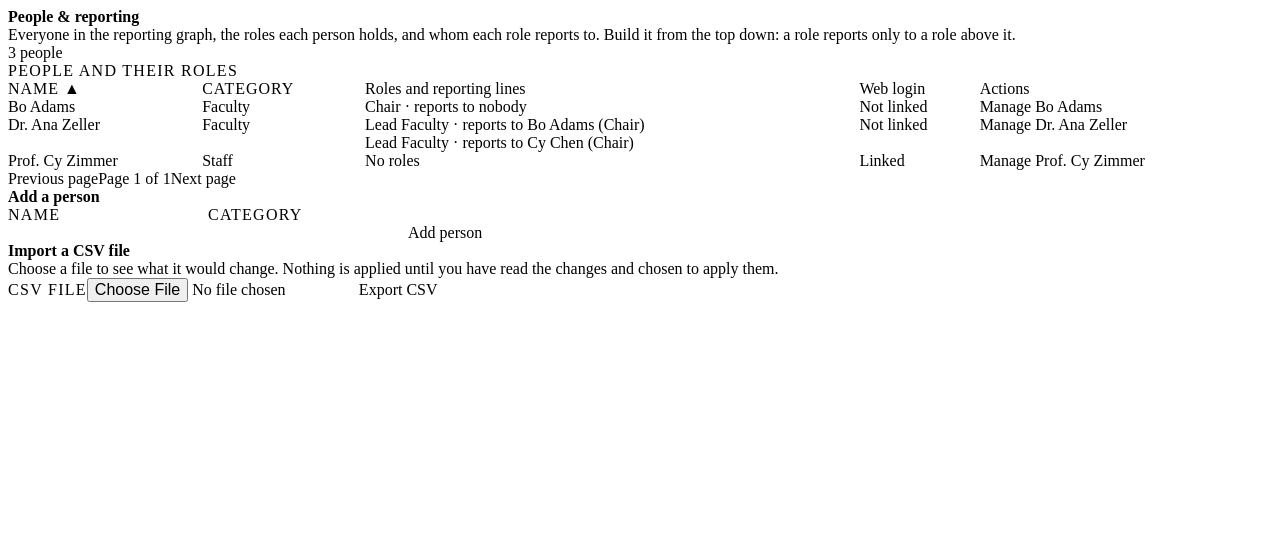
Scenario: the person panel › shows the server’s sentence for a revoke that has children, and removes nothing
Click the button "Manage Bo Adams": (1041, 107) 980,98 -> 1102,116
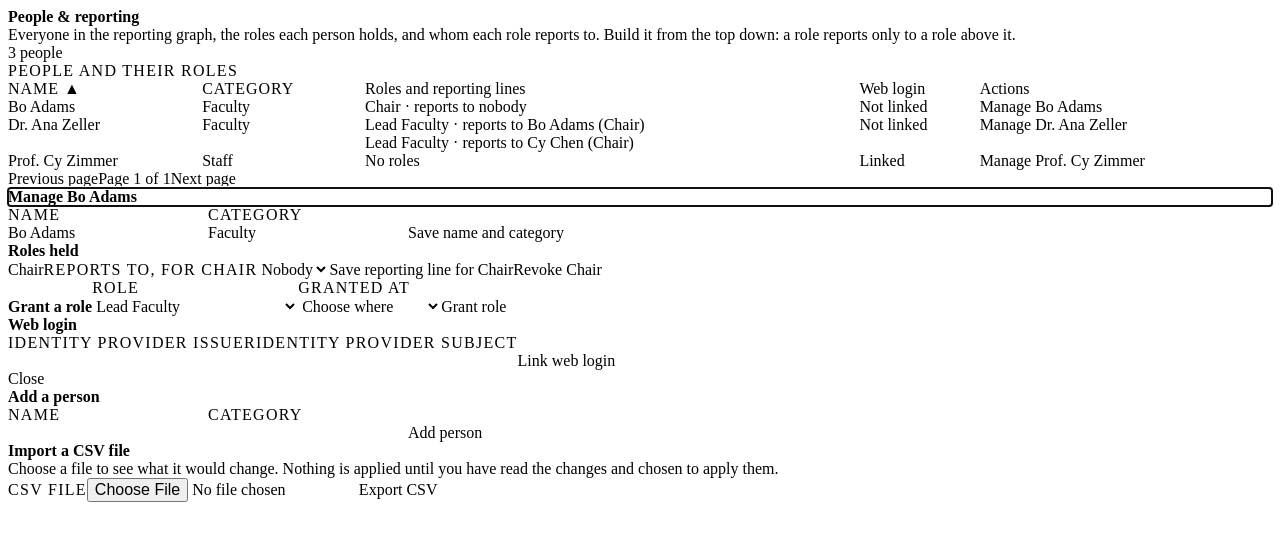
Click the button "Revoke Chair": (558, 270) 513,260 -> 602,278
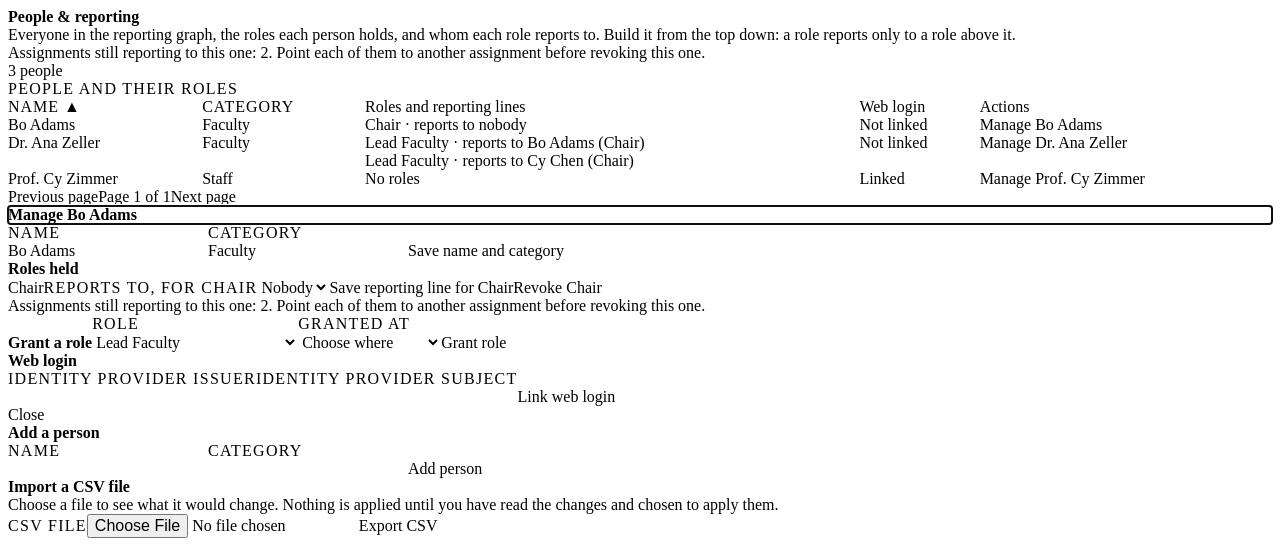
Now the message shows "Assignments still reporting to this one: 2. Point each of them to another assignment before revoking this one.", box 8,44 -> 705,61
